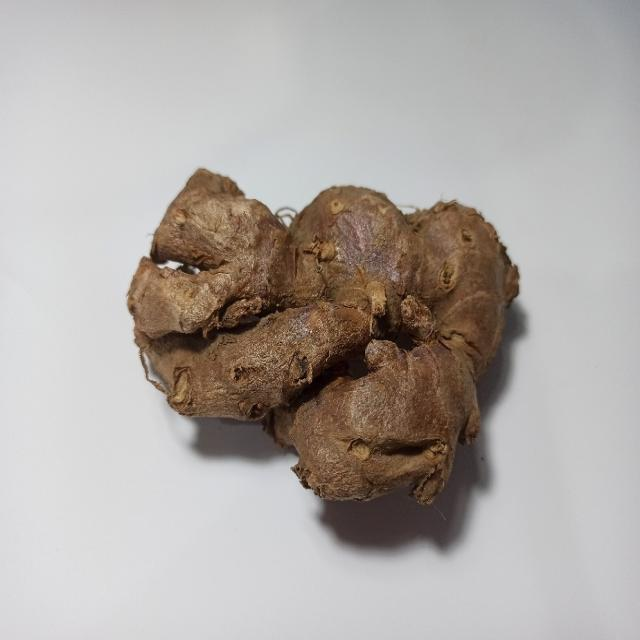ginger: (132, 169, 514, 507)
